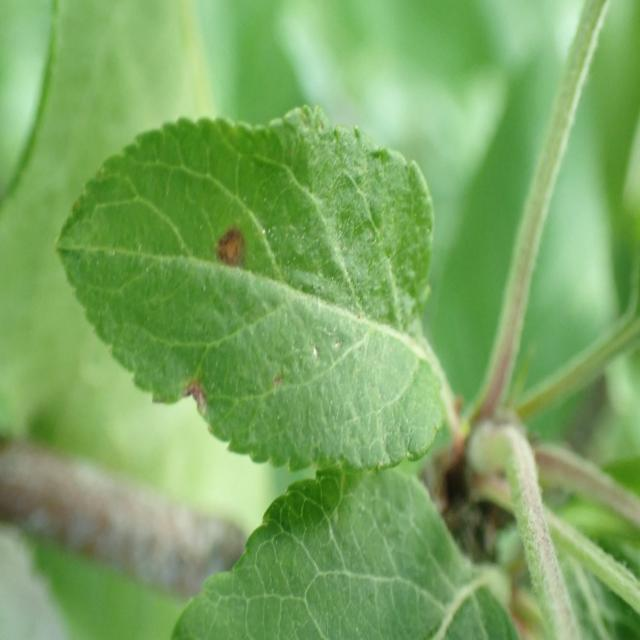Black Rot: (208, 205, 259, 271), (171, 359, 217, 426)
